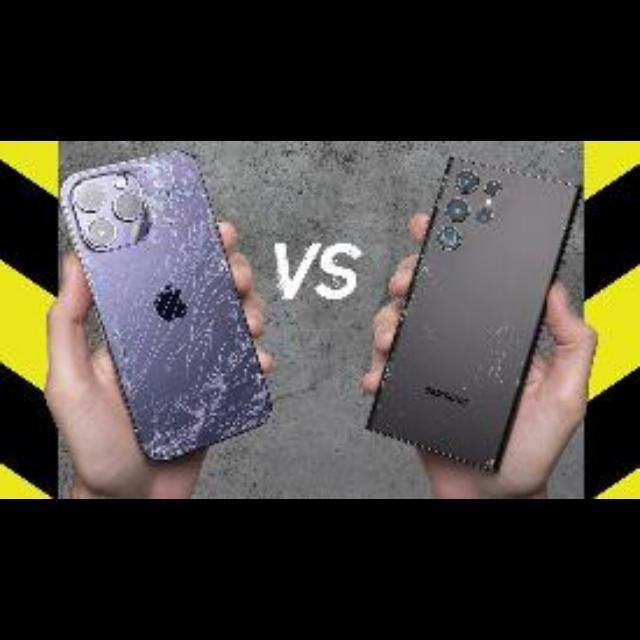phone: (318, 152, 586, 488), (36, 156, 296, 458)
